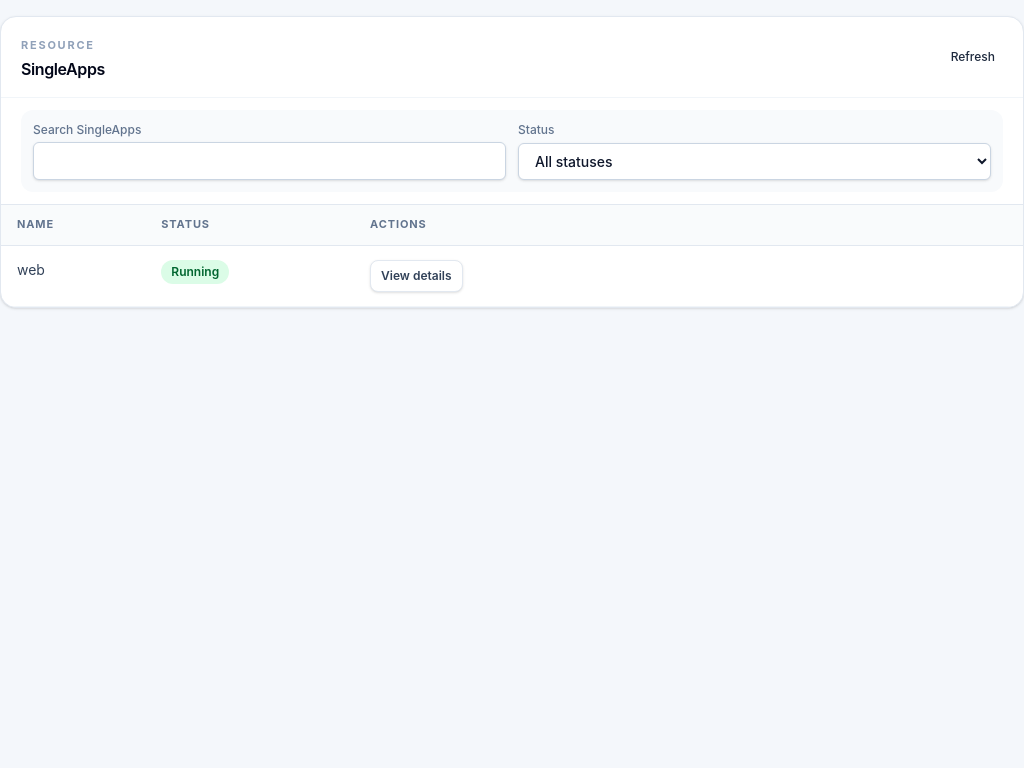
Test: resource list usability › keeps technical identifiers out of inventory columns while retaining them in details
Expected: the column heading "ID" is not shown
Expected: the column heading "App group ID" is not shown
Click the button "View details" at (416, 276), box top-left (370, 260), bottom-right (463, 292)
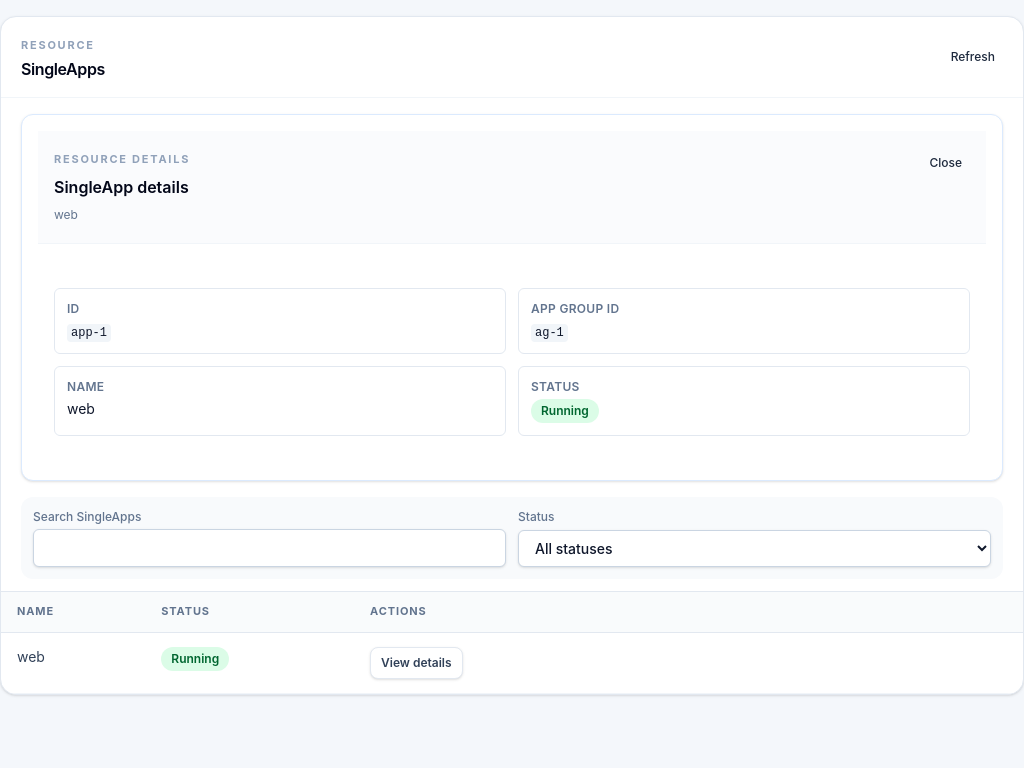
Result: the text "ID" is shown at top-left (67, 301), bottom-right (80, 316)
Result: the text "app-1" is shown at top-left (67, 324), bottom-right (111, 342)
Result: the text "App group ID" is shown at top-left (531, 301), bottom-right (620, 316)
